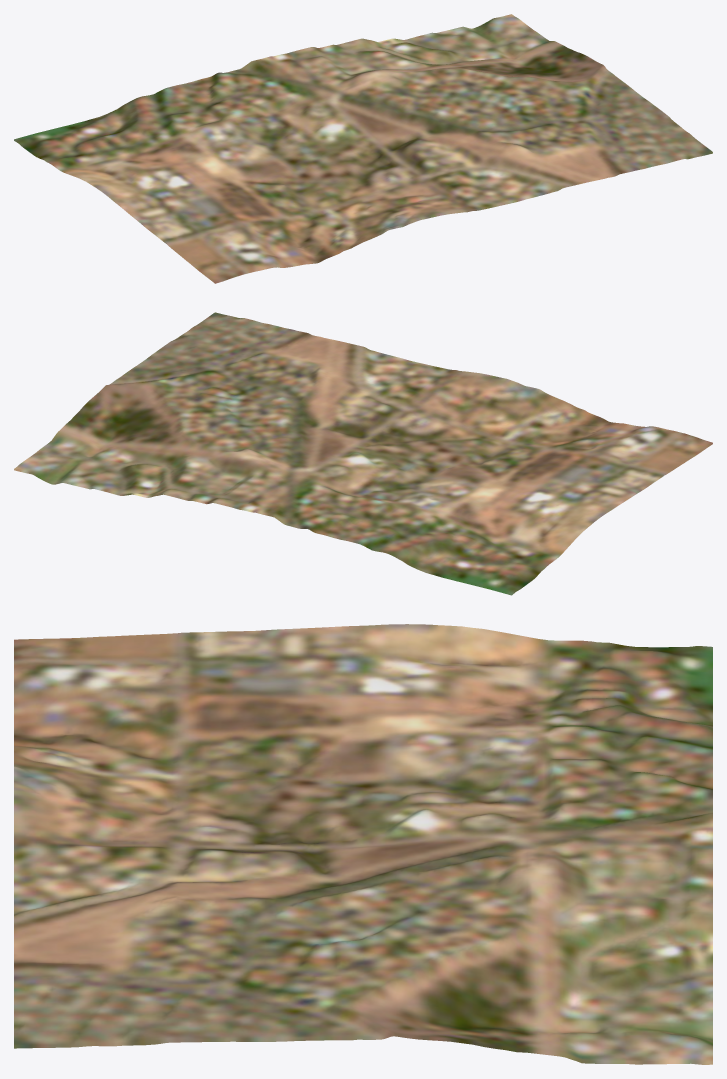
The model's file is terrain_r3_c1.glb.
3 views of the same model, one above another, from view 1: azimuth 30°, elevation 25°; view 2: azimuth 150°, elevation 25°; view 3: azimuth 270°, elevation 25° (orthographic). The views are drawn at different scales.
Visible parts, largest first — view 1: terrain_r3_c1_lod0; view 2: terrain_r3_c1_lod0; view 3: terrain_r3_c1_lod0.
Boxes of the visible parts, x1,y1,x2,y2 form: terrain_r3_c1_lod0: [14, 14, 712, 283]; terrain_r3_c1_lod0: [14, 312, 712, 595]; terrain_r3_c1_lod0: [14, 624, 712, 1064].
Size of the model in its own units: 1125 by 58.78 by 787.
Materials: 1 (1 with a texture image).
